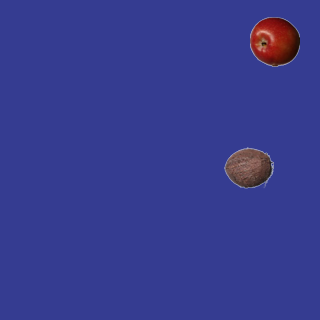Apple Braeburn: (249, 16, 299, 66)
Cocos: (223, 142, 273, 192)
